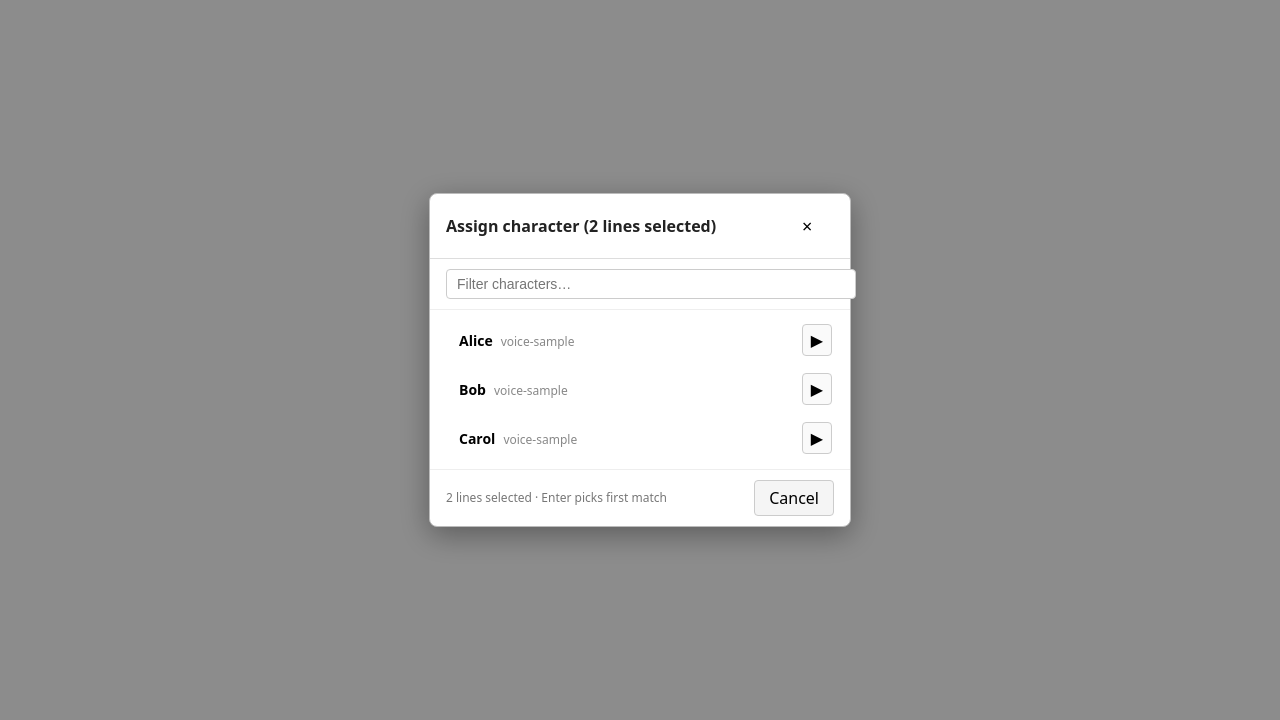
CharacterAssignPicker (Phase 10) › filters characters by query
Type "bo" into the field with test id "assign-picker-filter" at (651, 284), box [446,269,856,299]
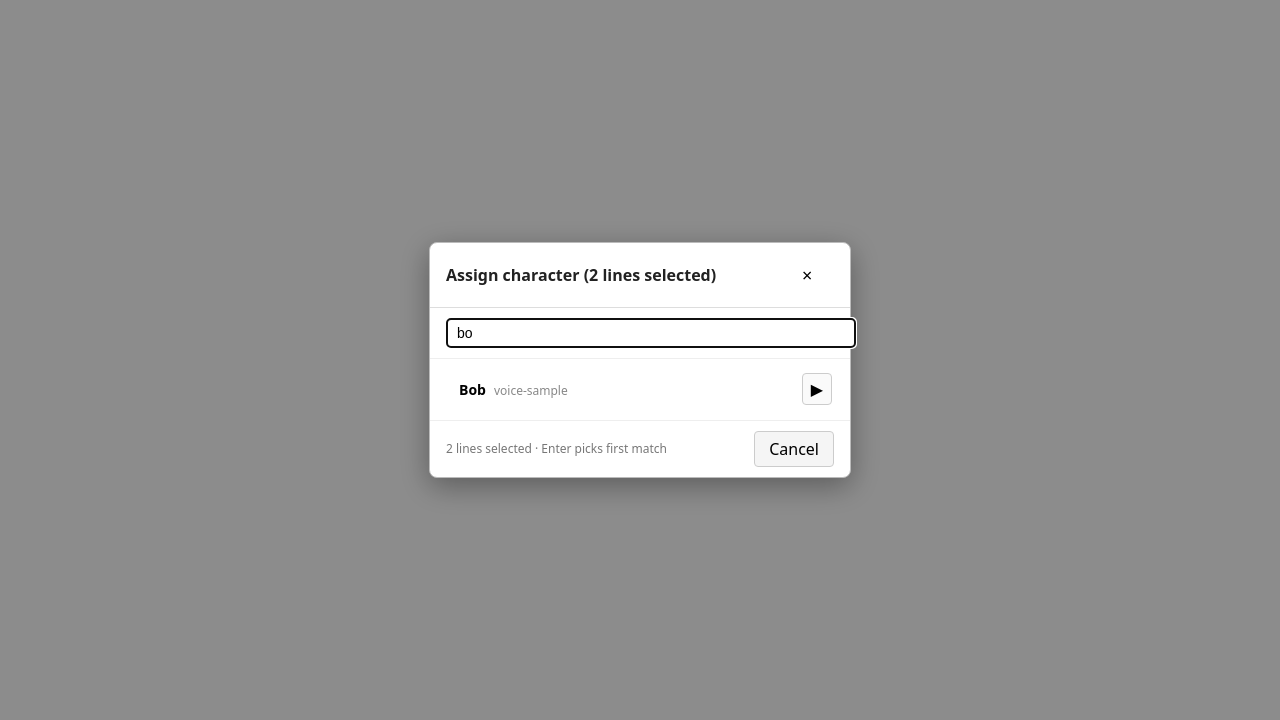
Expected: the element with test id "assign-option-Bob" is shown, [438,365,842,414]
Expected: the element with test id "assign-option-Alice" is gone
Expected: the element with test id "assign-option-Carol" is gone
